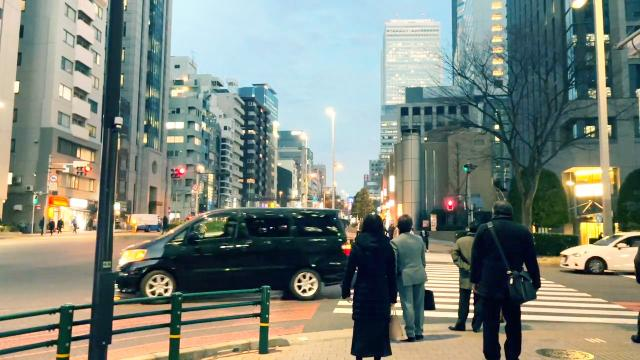berdiri: (472, 204, 540, 360), (346, 208, 392, 360), (388, 214, 432, 341), (448, 216, 486, 336)
